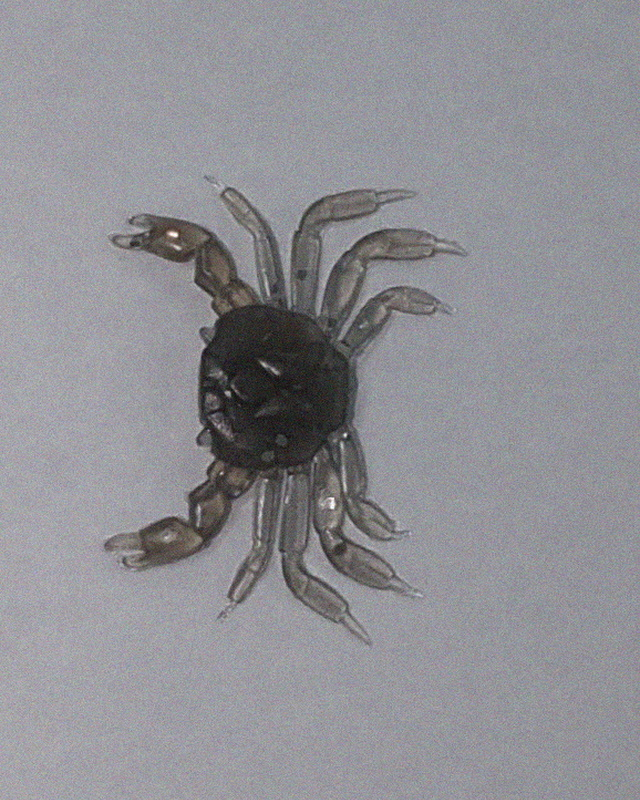crab1: (101, 171, 472, 653)
